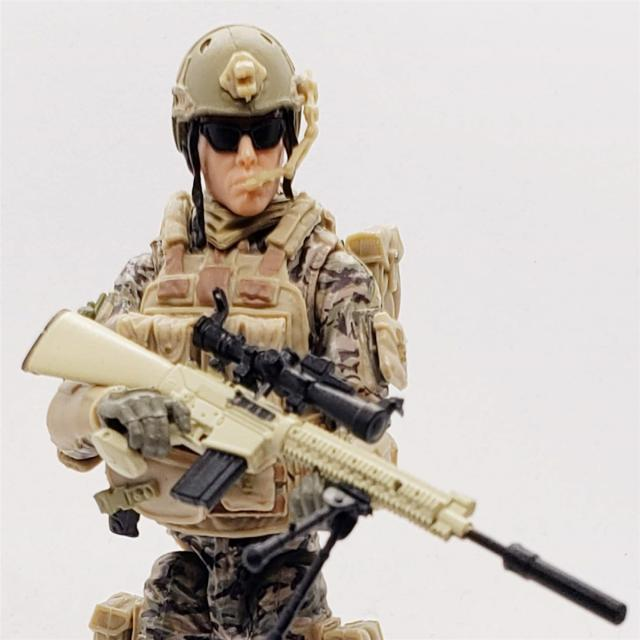Rifle: (21, 311, 627, 625)
